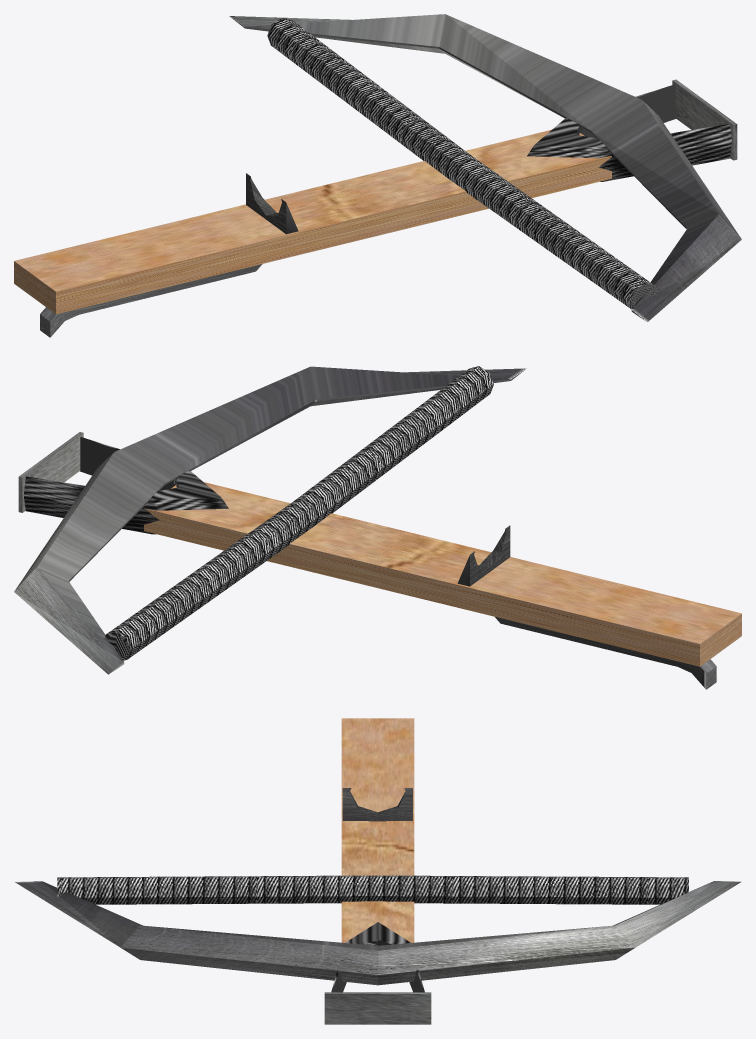
The model's file is Crossbow1.obj.
The picture shows the model from 3 angles, top to bottom: view 1: azimuth 30°, elevation 25°; view 2: azimuth 150°, elevation 25°; view 3: azimuth 270°, elevation 25°; orthographic projection. The views are drawn at different scales.
Parts seen in each view (by area): view 1: Sphere.002, Sphere.001, Sphere; view 2: Sphere.002, Sphere.001, Sphere; view 3: Sphere.001, Sphere, Sphere.002.
Part boxes in pixels (x1,y1,x2,y2): Sphere.002: [14, 129, 611, 314]; Sphere.001: [40, 14, 741, 337]; Sphere: [267, 17, 731, 309]; Sphere.002: [144, 482, 741, 666]; Sphere.001: [14, 366, 716, 689]; Sphere: [23, 366, 493, 660]; Sphere.001: [14, 788, 741, 1024]; Sphere: [57, 875, 688, 992]; Sphere.002: [341, 718, 414, 942].
Bounding box in the file's own units: 4.67 × 0.6142 × 5.04.
